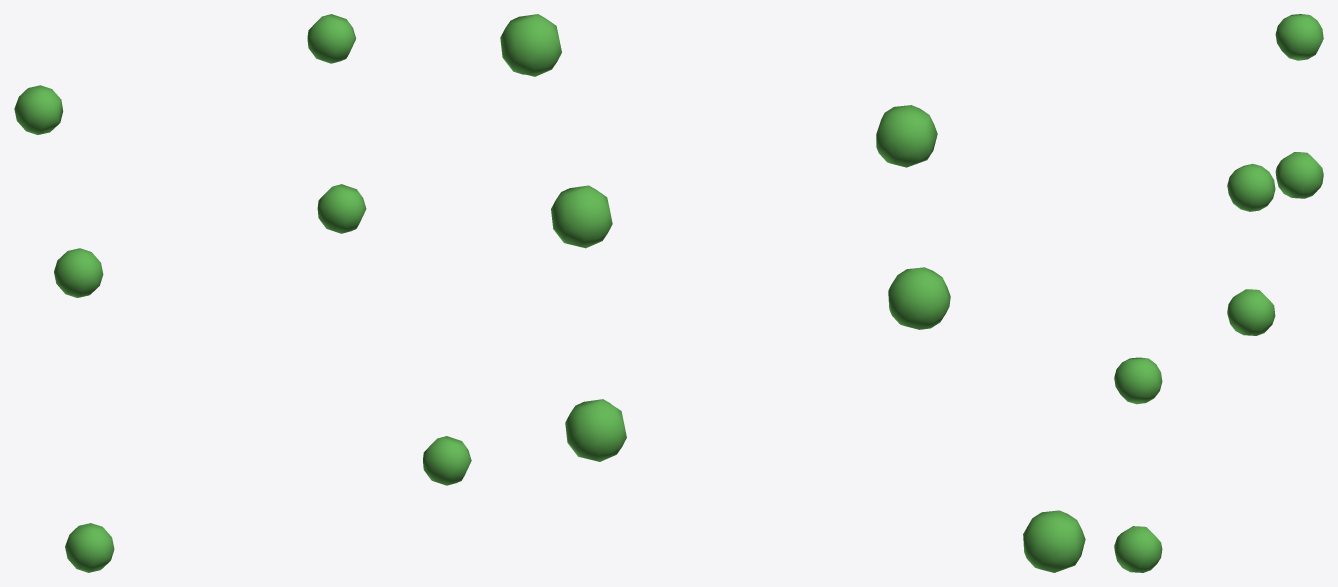
File: linfatico-superficial-anterior-cervical-nodes.glb
3 views of the same model, side by side, from view 1: azimuth 30°, elevation 25°; view 2: azimuth 150°, elevation 25°; view 3: azimuth 270°, elevation 25° (orthographic). The views are drawn at different scales.
Parts seen in each view (by area): view 1: Superficial anterior cervical nodes; view 2: Superficial anterior cervical nodes; view 3: Superficial anterior cervical nodes.
Boxes of the visible parts, x1=… form: Superficial anterior cervical nodes: x1=14, y1=14, x2=471, y2=572; Superficial anterior cervical nodes: x1=500, y1=14, x2=1085, y2=572; Superficial anterior cervical nodes: x1=1114, y1=14, x2=1323, y2=572.
Size of the model in its own units: 0.0239 by 0.0237 by 0.0112.
